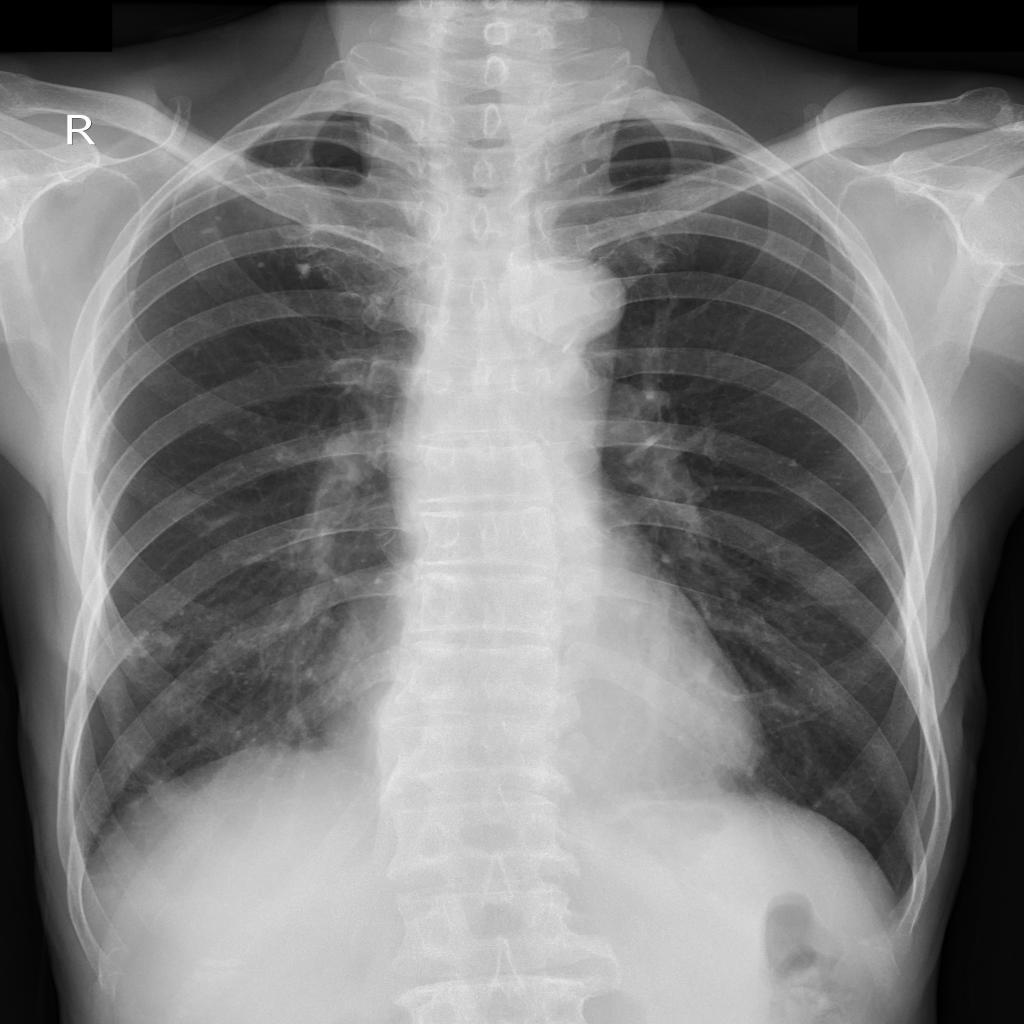Nodule: (296, 263, 314, 278), (253, 259, 269, 271), (199, 226, 216, 237), (214, 212, 225, 222)
